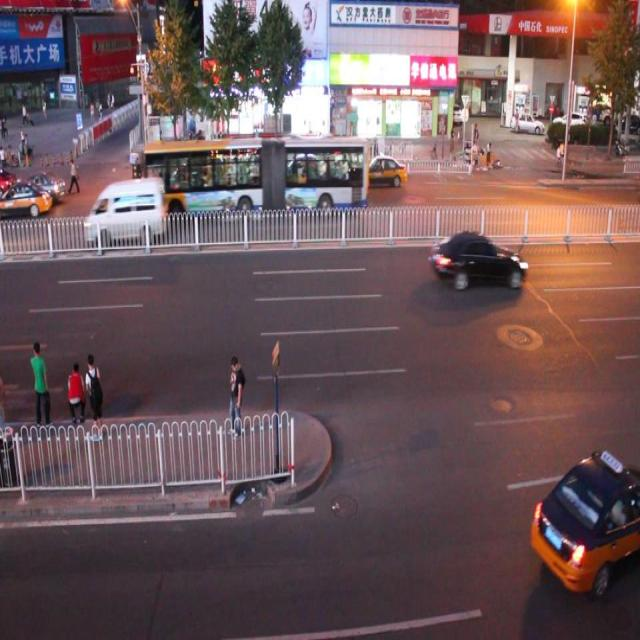car: (141, 137, 370, 215), (528, 443, 640, 596), (432, 228, 527, 289), (0, 181, 52, 221), (179, 161, 224, 202), (357, 154, 406, 190), (279, 153, 328, 188), (13, 173, 66, 203), (0, 165, 16, 198)
truck: (82, 178, 166, 244)
